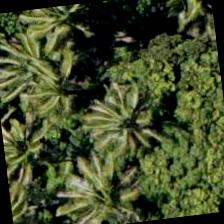Kelapa_Sawit: (5, 46, 106, 146), (66, 74, 166, 174), (58, 152, 157, 223), (0, 111, 67, 208), (14, 0, 110, 67), (0, 11, 56, 108), (6, 165, 61, 223)
